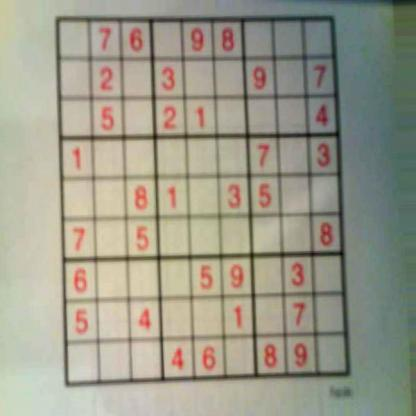sudoku: (51, 11, 360, 390)
